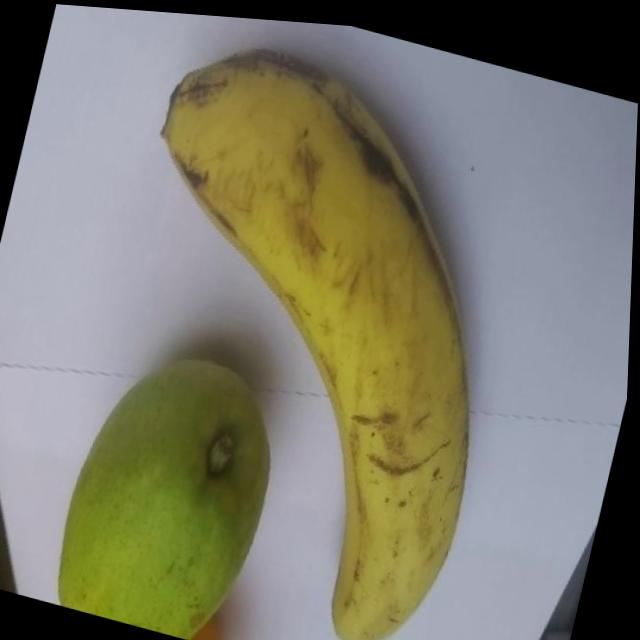Banana: (61, 18, 556, 640)
